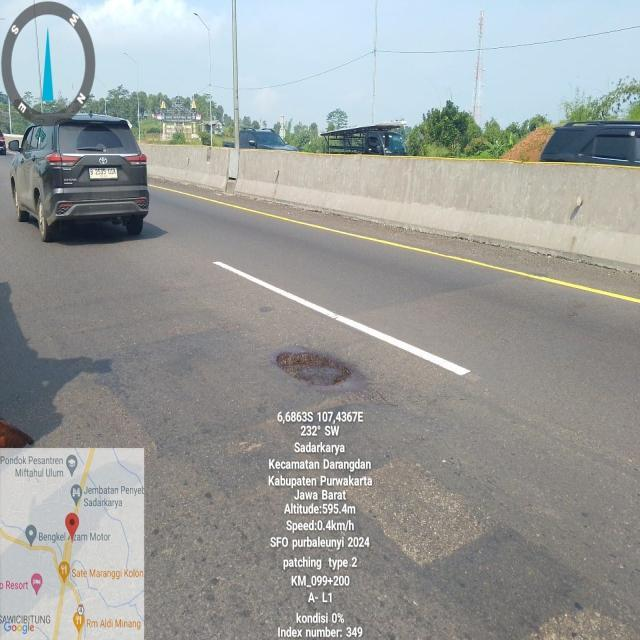Buraco: (272, 349, 355, 389)
